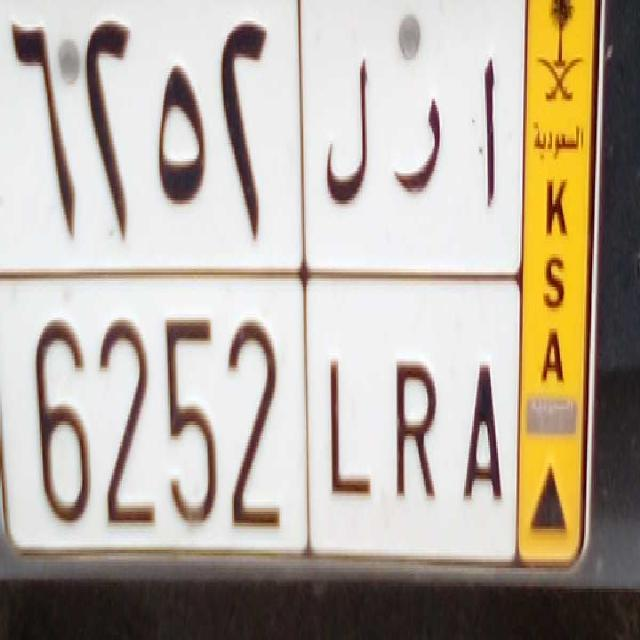license_plate: (0, 271, 520, 570)
